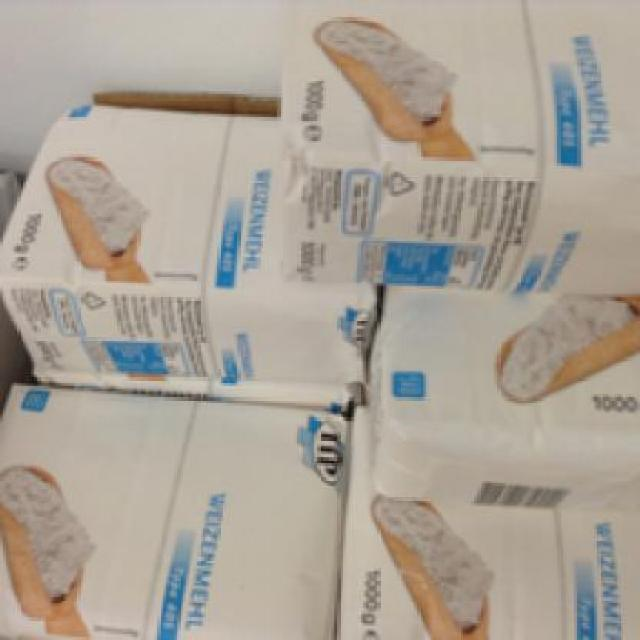Flour: (0, 103, 372, 401), (273, 0, 635, 292), (0, 377, 349, 637), (363, 283, 637, 503)
